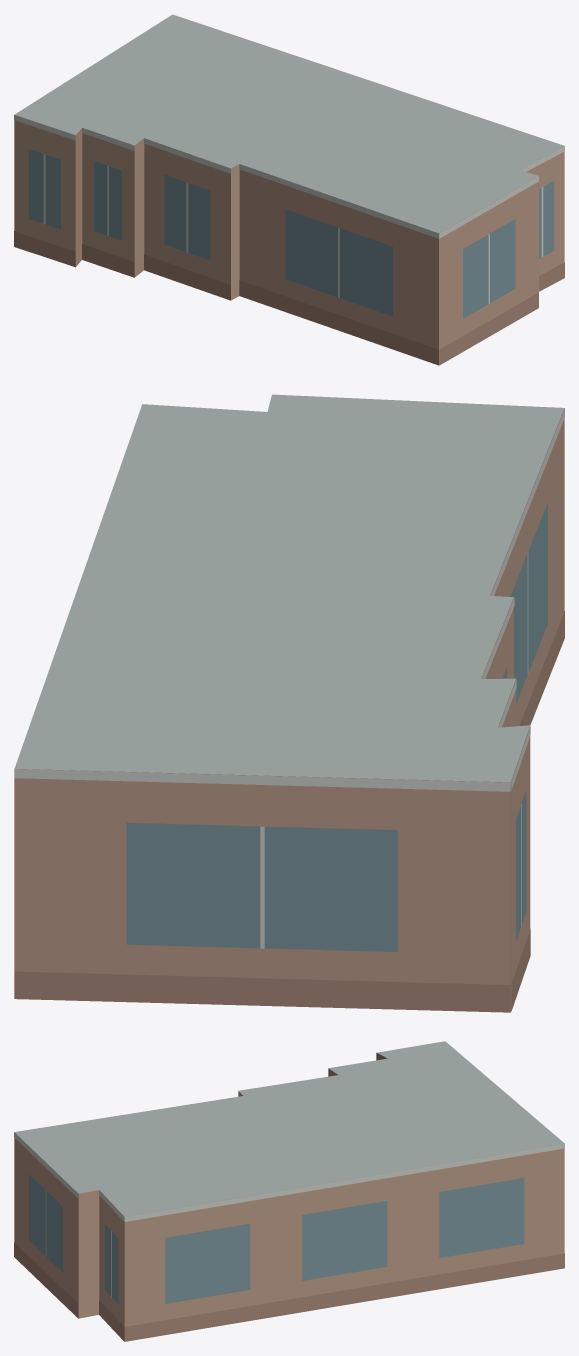
The model's file is survey-upis-32787648.glb.
3 renders of one model, top to bottom at view 1: azimuth 30°, elevation 25°; view 2: azimuth 150°, elevation 25°; view 3: azimuth 270°, elevation 25°, orthographic. The views are drawn at different scales.
Parts seen in each view (by area): view 1: survey-upis-32787648.tmp; view 2: survey-upis-32787648.tmp; view 3: survey-upis-32787648.tmp.
Part boxes in pixels (x1=…): survey-upis-32787648.tmp: x1=14, y1=14, x2=564, y2=365; survey-upis-32787648.tmp: x1=14, y1=394, x2=564, y2=1012; survey-upis-32787648.tmp: x1=14, y1=1041, x2=564, y2=1341.
Bounding box in the file's own units: 9.22 × 3.05 × 12.2.
